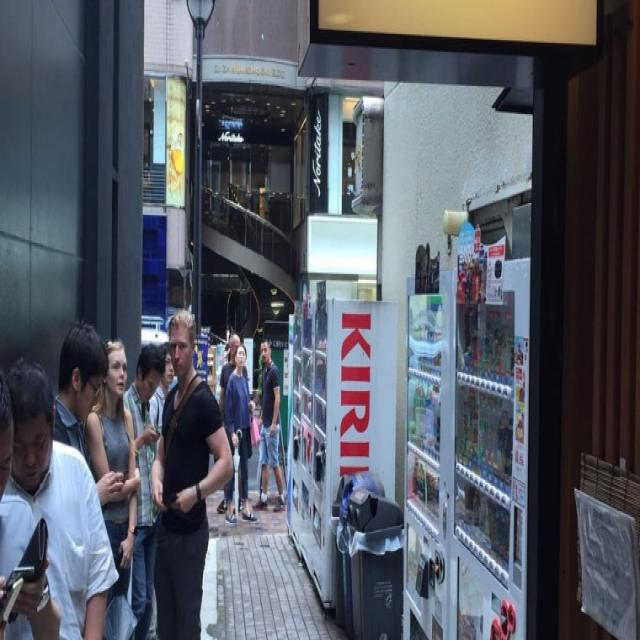body: (0, 357, 121, 640), (147, 305, 237, 639), (2, 354, 66, 639), (84, 337, 142, 610), (52, 316, 126, 508), (119, 339, 166, 640), (250, 334, 291, 516), (224, 342, 261, 528), (216, 330, 252, 517), (148, 341, 176, 452)
